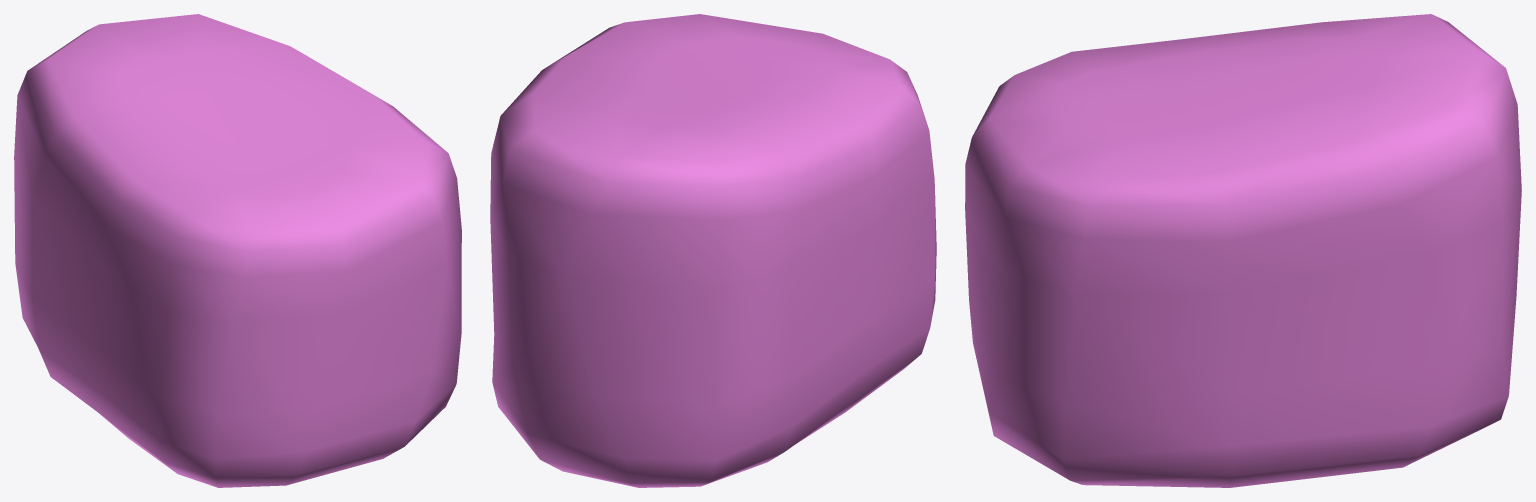
Rendered from prop_rock_medium_01.fbx.
3 views of the same model, side by side, from view 1: azimuth 30°, elevation 25°; view 2: azimuth 150°, elevation 25°; view 3: azimuth 270°, elevation 25° (orthographic). The views are drawn at different scales.
Visible parts, largest first — view 1: RockMedium1_low; view 2: RockMedium1_low; view 3: RockMedium1_low.
Boxes of the visible parts, box(x1,y1,x2,y2) form: RockMedium1_low: box(14, 14, 461, 487); RockMedium1_low: box(490, 14, 936, 487); RockMedium1_low: box(965, 14, 1521, 487).
Size of the model in its own units: 6.97 by 6.82 by 9.67.
